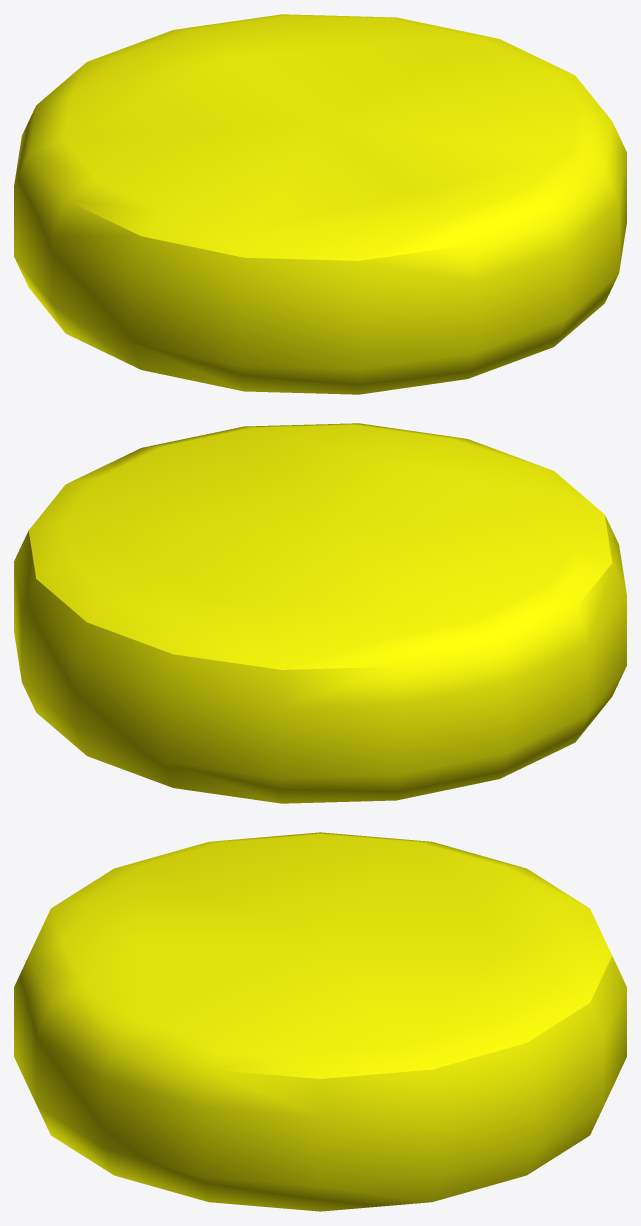
Rendered from kaykit-food-ingredient-burger-cooked.glb.
The picture shows the model from 3 angles, top to bottom: view 1: azimuth 30°, elevation 25°; view 2: azimuth 150°, elevation 25°; view 3: azimuth 270°, elevation 25°; orthographic projection.
Visible parts, largest first — view 1: food_ingredient_burger_cooked; view 2: food_ingredient_burger_cooked; view 3: food_ingredient_burger_cooked.
Part boxes in pixels (x1,y1,x2,y2): food_ingredient_burger_cooked: (14, 14, 626, 394); food_ingredient_burger_cooked: (14, 423, 626, 803); food_ingredient_burger_cooked: (14, 832, 626, 1211).
Size of the model in its own units: 0.7 by 0.2 by 0.7.
